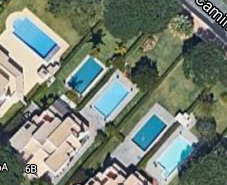pool: (17, 21, 49, 55), (73, 63, 104, 89), (163, 144, 196, 168), (98, 90, 129, 113), (137, 120, 170, 141)
